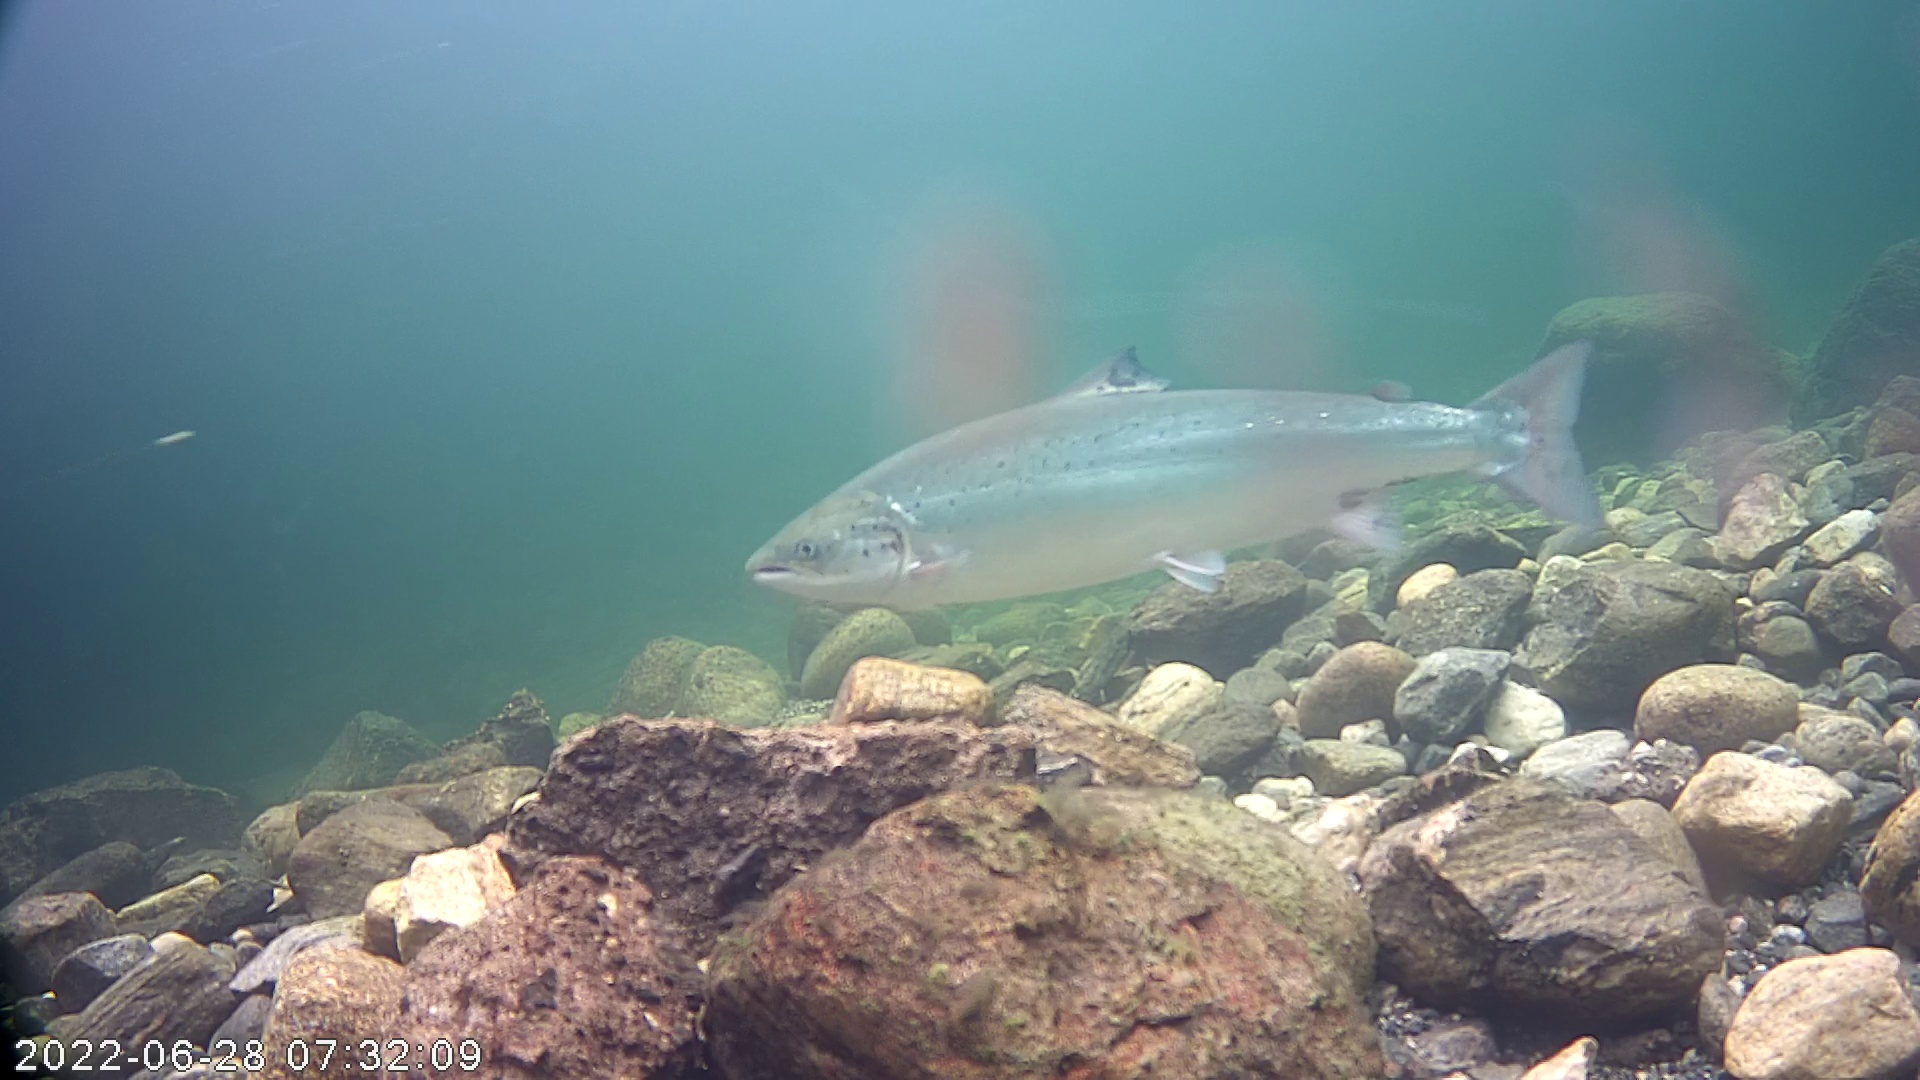salmon: (742, 240, 1630, 666)
